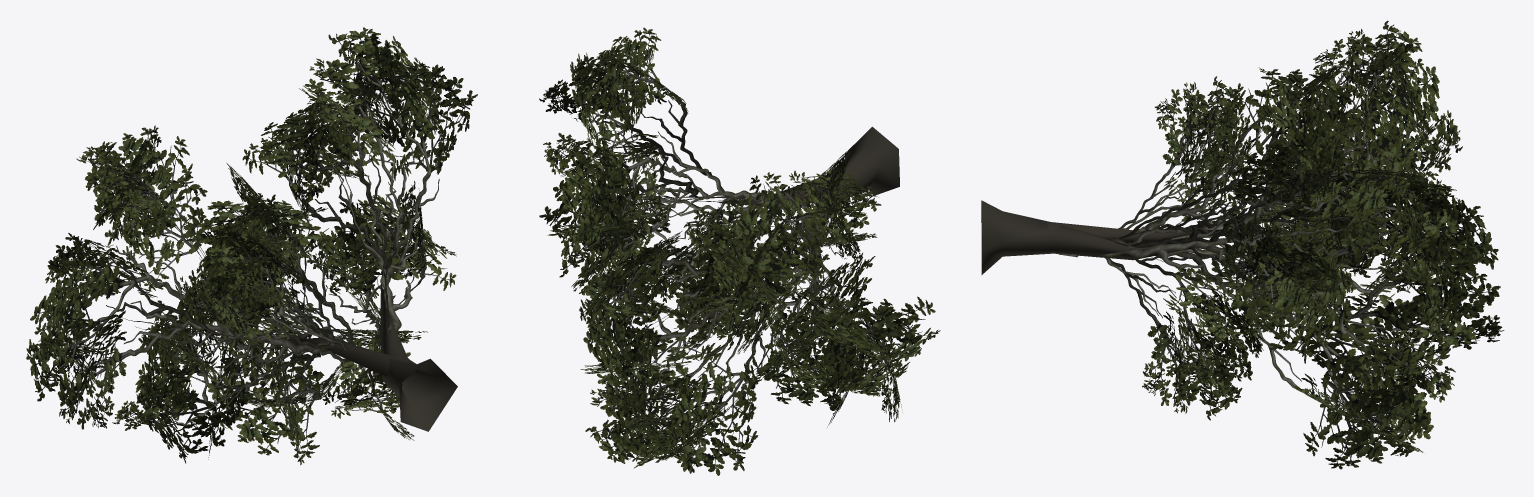
Rendered from MEP_Oak_01_Lod_01.fbx.
The picture shows the model from 3 angles, left to right: view 1: azimuth 30°, elevation 25°; view 2: azimuth 150°, elevation 25°; view 3: azimuth 270°, elevation 25°; orthographic projection. The views are drawn at different scales.
Parts seen in each view (by area): view 1: MEP_Oak_01_Lod_01; view 2: MEP_Oak_01_Lod_01; view 3: MEP_Oak_01_Lod_01.
Part boxes in pixels (bbox=[...]): MEP_Oak_01_Lod_01: bbox=[26, 27, 477, 465]; MEP_Oak_01_Lod_01: bbox=[539, 27, 940, 475]; MEP_Oak_01_Lod_01: bbox=[981, 20, 1504, 469].
Bounding box in the file's own units: 12.19 × 11.97 × 12.8.
